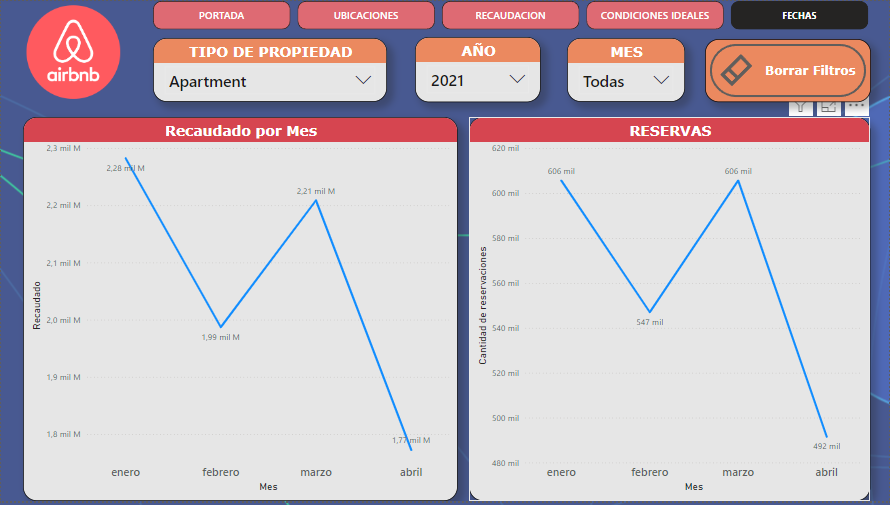

Layout of this report page (visuals, bound fields, positions):
{"tool":"powerbi","page":{"name":"FECHAS","canvas":[1280,720],"ordinal":3},"visuals":[{"type":"lineChart","fields":{"Category":["calendar.Fecha.Variación.Jerarquía de fechas.Mes"],"Y":["Sum(calendar.Precio)"]},"box":[31.4,167.3,625.8,552.6],"z":0},{"type":"lineChart","title":"RESERVAS","fields":{"Category":["calendar.Fecha.Variación.Jerarquía de fechas.Mes"],"Y":["CountNonNull(calendar.Precio)"]},"box":[673.6,167.3,578,552.6],"z":1000},{"type":"image","box":[31.7,0,145.4,146.9],"z":2000},{"type":"slicer","title":"TIPO DE PROPIEDAD","fields":{"Values":["listings.tipo_propiedad"]},"box":[218.9,53.3,337,92.2],"z":3000},{"type":"slicer","title":"AÑO","fields":{"Values":["calendar.Fecha.Variación.Jerarquía de fechas.Año"]},"box":[596.2,51.8,181.4,93.6],"z":4000},{"type":"slicer","title":"MES","fields":{"Values":["calendar.Fecha.Variación.Jerarquía de fechas.Mes"]},"box":[815,53.3,169.9,92.2],"z":5000},{"type":"pageNavigator","box":[218.9,0,1033.9,41.8],"z":6000},{"type":"actionButton","box":[1013.8,54.7,239,90.7],"z":7000}]}

Visuals, with their boxes in screenshot pixels (x1, y1, x2, y2), scaled from the page's 1280x720 canvas onto the 890x505 screenshot:
lineChart - calendar.Fecha.Variación.Jerarquía de fechas.Mes x Sum(calendar.Precio): [x1=22, y1=117, x2=457, y2=504]
"RESERVAS" lineChart: [x1=468, y1=117, x2=870, y2=504]
image: [x1=22, y1=0, x2=123, y2=103]
"TIPO DE PROPIEDAD" slicer: [x1=152, y1=37, x2=387, y2=102]
"AÑO" slicer: [x1=415, y1=36, x2=541, y2=102]
"MES" slicer: [x1=567, y1=37, x2=685, y2=102]
pageNavigator: [x1=152, y1=0, x2=871, y2=29]
actionButton: [x1=705, y1=38, x2=871, y2=102]
